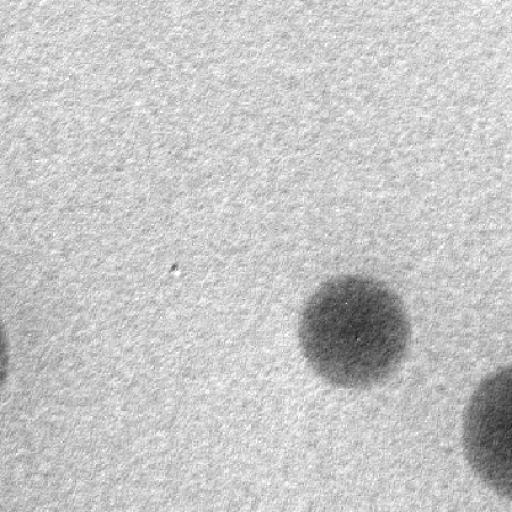Nanoparticles: (297, 272, 411, 393), (457, 363, 512, 503), (0, 324, 14, 385)
